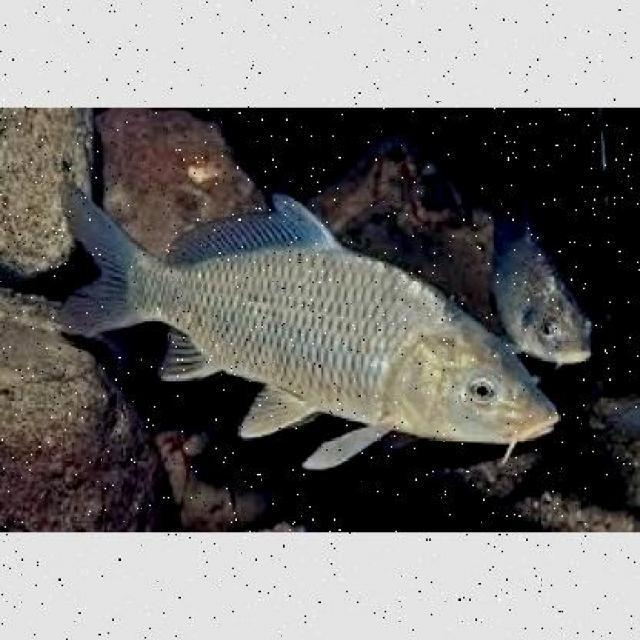ikan-mas: (55, 206, 554, 444), (485, 194, 613, 360)
